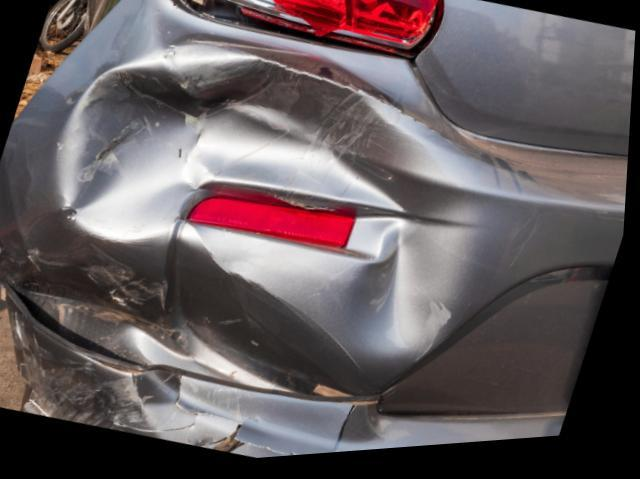crack: (144, 380, 306, 460), (14, 286, 146, 370)
dent: (64, 63, 480, 361)
lamp broken: (173, 0, 441, 59)
scratch: (22, 329, 151, 436)
